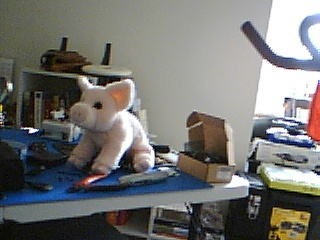piggy: (67, 74, 156, 175)
